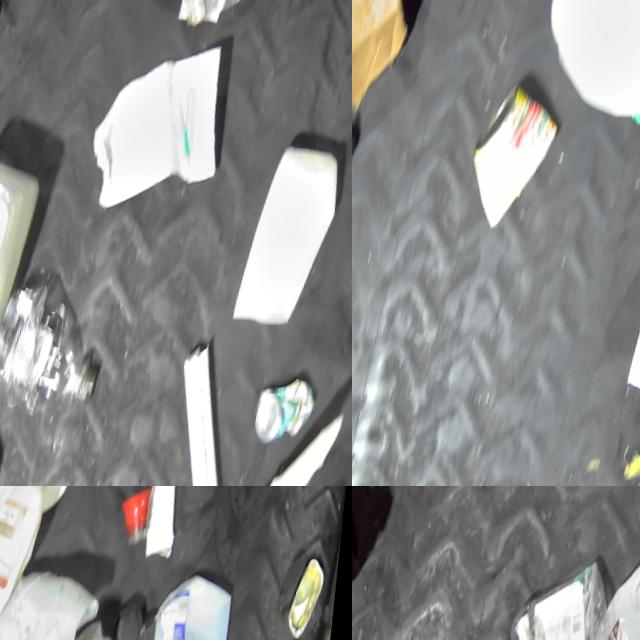can: (466, 67, 578, 234), (256, 348, 338, 450)
milk_jug: (527, 0, 640, 125), (0, 145, 54, 394), (0, 561, 134, 640), (135, 554, 254, 640), (0, 486, 59, 640), (560, 551, 640, 640)
plastic_bottle: (0, 266, 135, 420), (477, 553, 627, 640)
